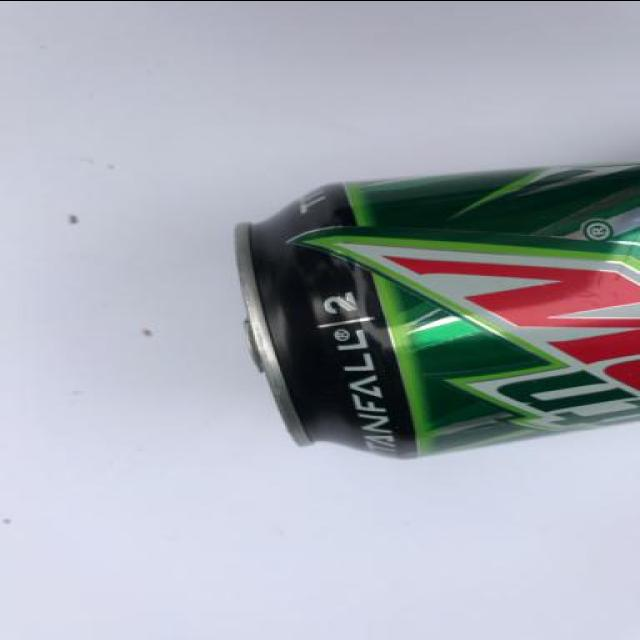litter: (203, 107, 640, 485)
